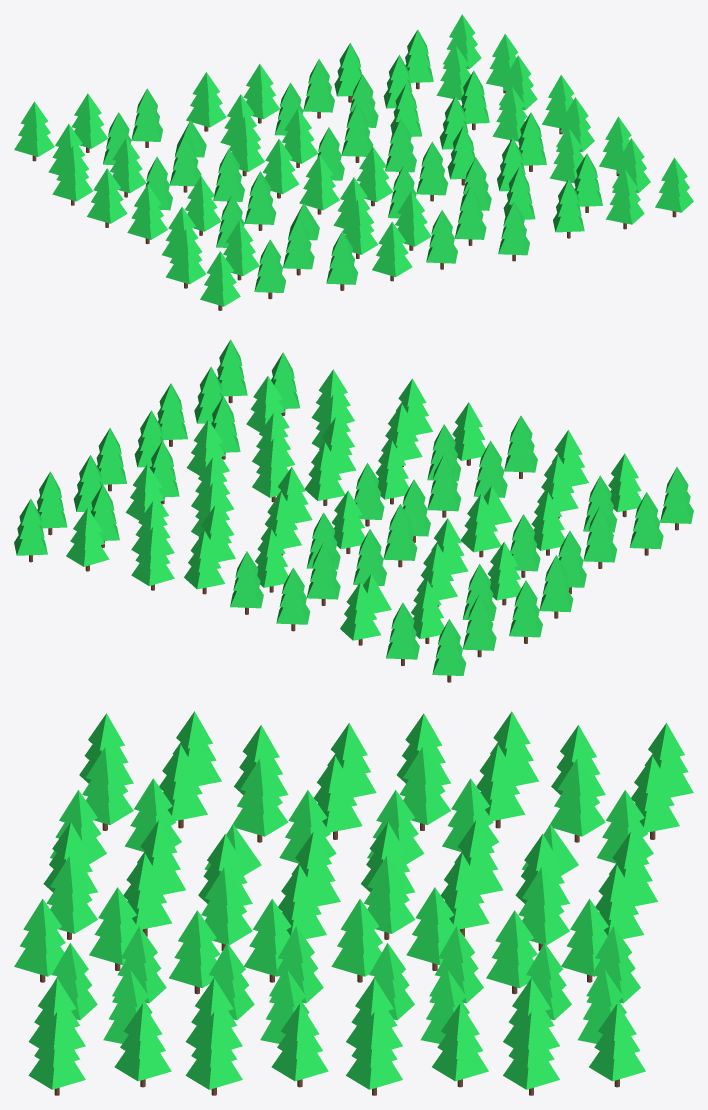
Rendered from Forest.gltf.
3 renders of one model, top to bottom at view 1: azimuth 30°, elevation 25°; view 2: azimuth 150°, elevation 25°; view 3: azimuth 270°, elevation 25°, orthographic. The views are drawn at different scales.
Visible parts, largest first — view 1: node-0; view 2: node-0; view 3: node-0.
Part boxes in pixels (<box>): node-0: <box>14,14,693,310</box>; node-0: <box>14,339,693,682</box>; node-0: <box>14,711,693,1095</box>.
Bounding box in the file's own units: 847966 × 101101 × 751553.
